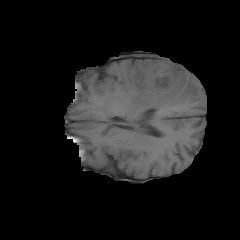glioma: (115, 59, 199, 109)
